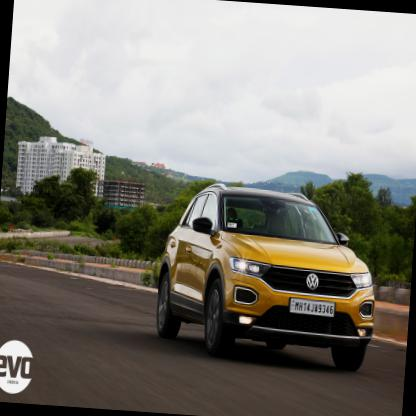car: (153, 178, 383, 374)
